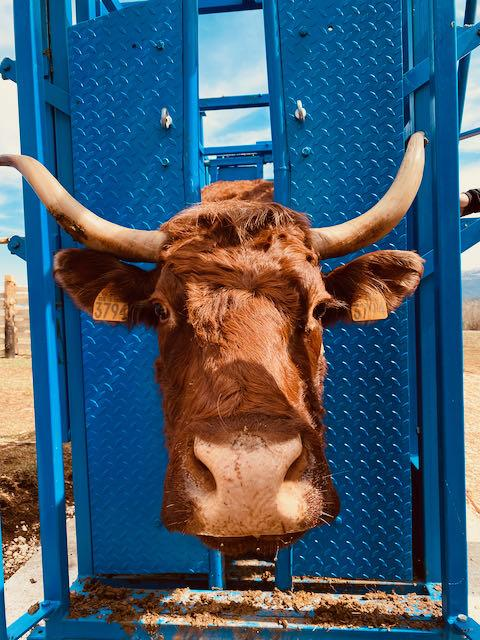muzzles: (154, 431, 342, 553)
